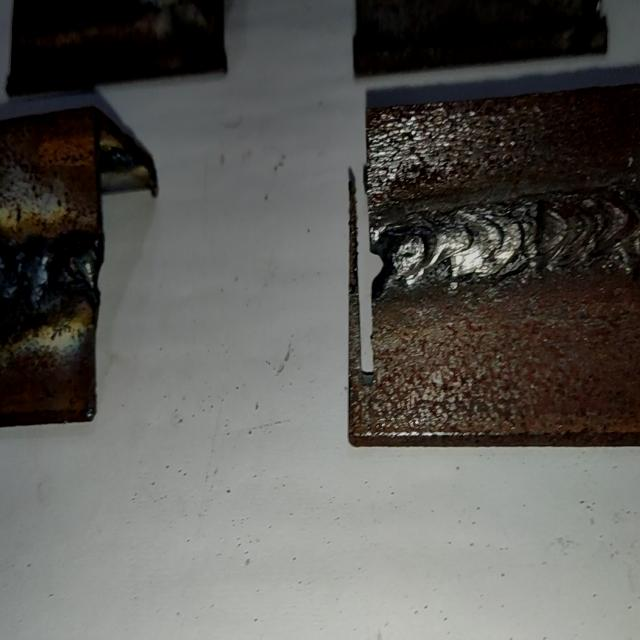Defect: (0, 233, 91, 313)
Good Weld: (382, 192, 639, 290)
